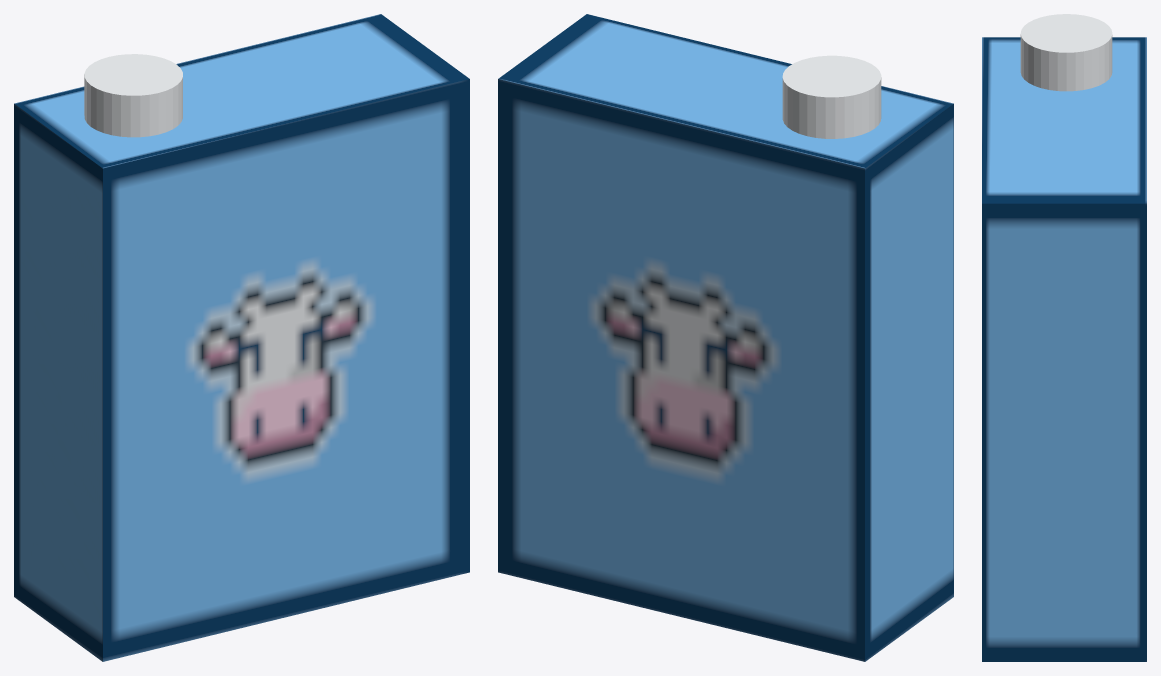
The model's file is Milk.fbx.
The picture shows the model from 3 angles, left to right: view 1: azimuth 30°, elevation 25°; view 2: azimuth 150°, elevation 25°; view 3: azimuth 270°, elevation 25°; orthographic projection. The views are drawn at different scales.
Visible parts, largest first — view 1: Milk; view 2: Milk; view 3: Milk.
Part boxes in pixels (bbox=[...]): Milk: bbox=[14, 14, 469, 661]; Milk: bbox=[498, 14, 953, 661]; Milk: bbox=[982, 14, 1146, 661].
Size of the model in its own units: 71.02 by 98.94 by 29.73.
1 material, 1 textured.
